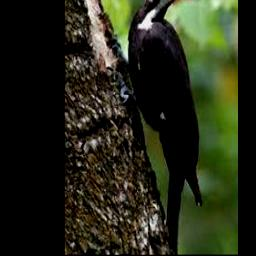Woodpecker: (112, 0, 202, 254)
